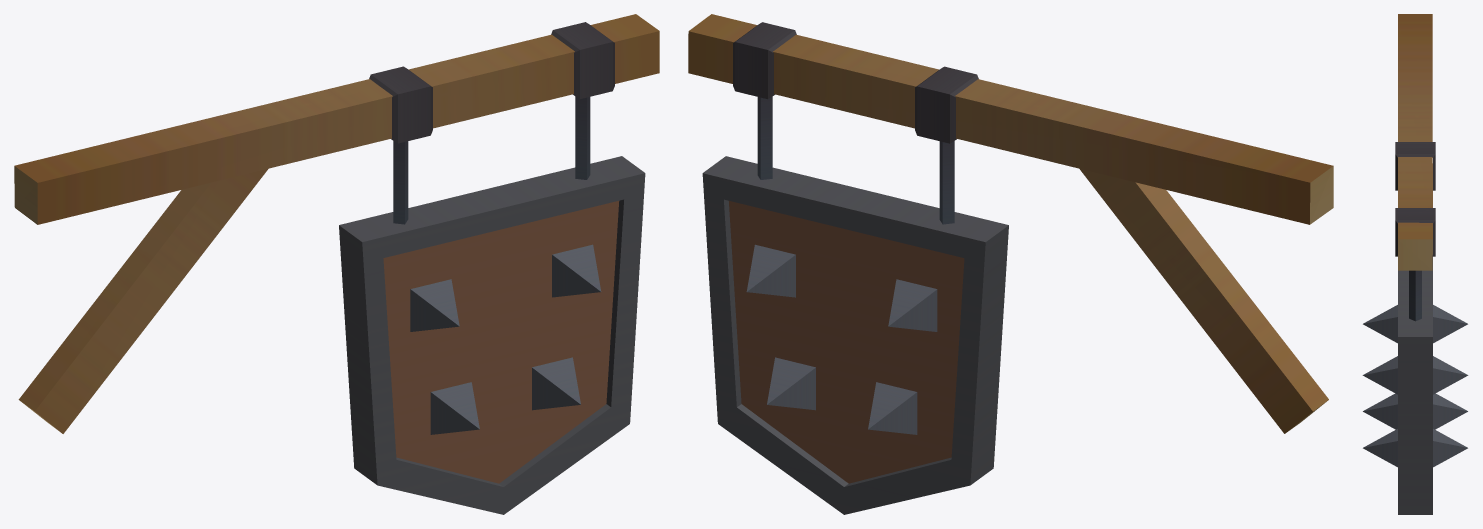
File: SignBoard_2_LOD1.fbx
3 renders of one model, left to right at view 1: azimuth 30°, elevation 25°; view 2: azimuth 150°, elevation 25°; view 3: azimuth 270°, elevation 25°, orthographic. The views are drawn at different scales.
Visible parts, largest first — view 1: polySurface10641; view 2: polySurface10641; view 3: polySurface10641.
Boxes of the visible parts, bbox=[...] form: polySurface10641: bbox=[14, 14, 659, 514]; polySurface10641: bbox=[688, 14, 1333, 514]; polySurface10641: bbox=[1362, 14, 1468, 514].
Bounding box in the file's own units: 308 × 212 × 61.23.
